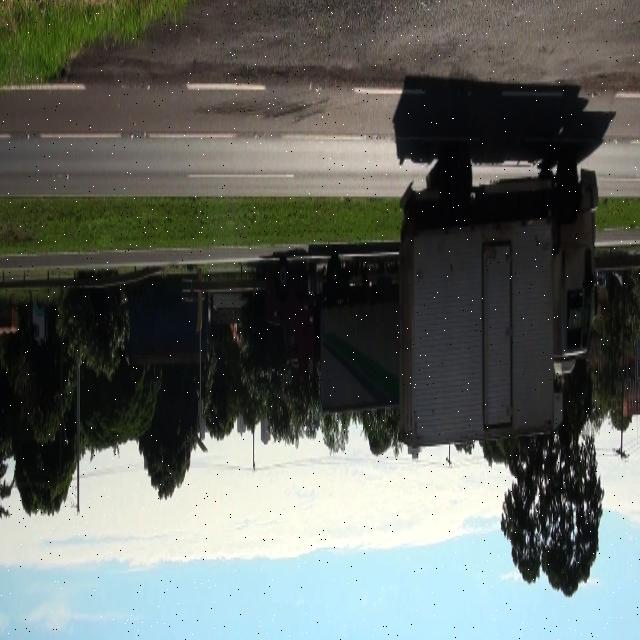-axle: (445, 139, 472, 215), (555, 152, 580, 225)
